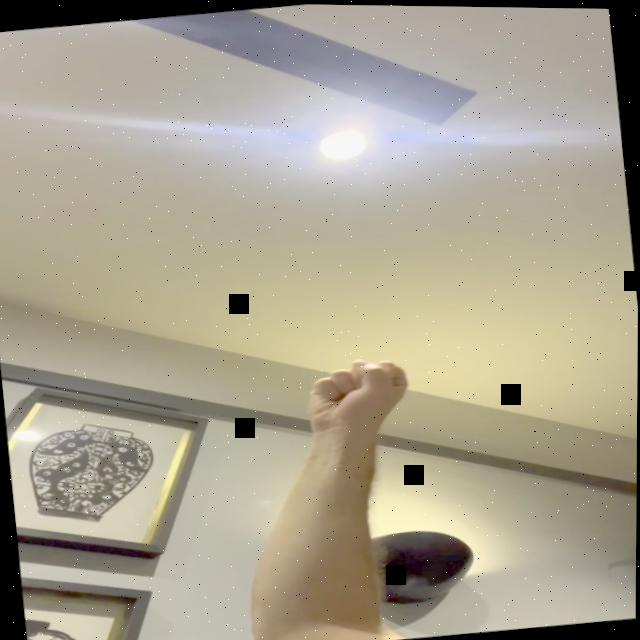Rock: (302, 349, 417, 433)
